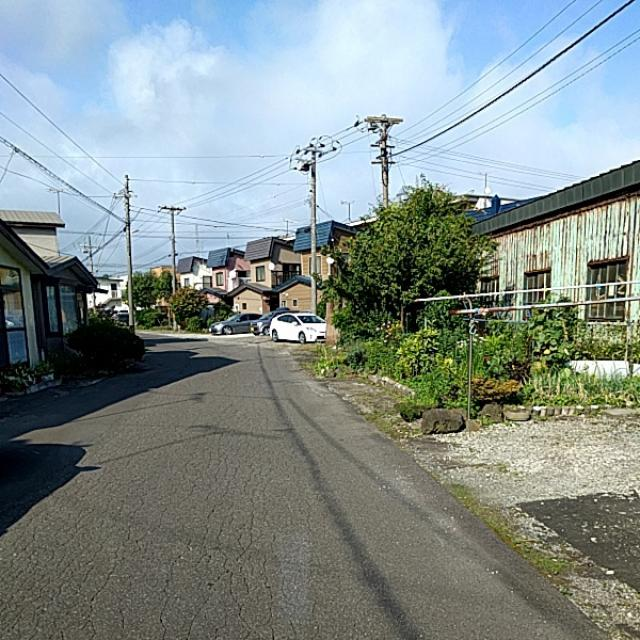pothole: (90, 424, 300, 639)
